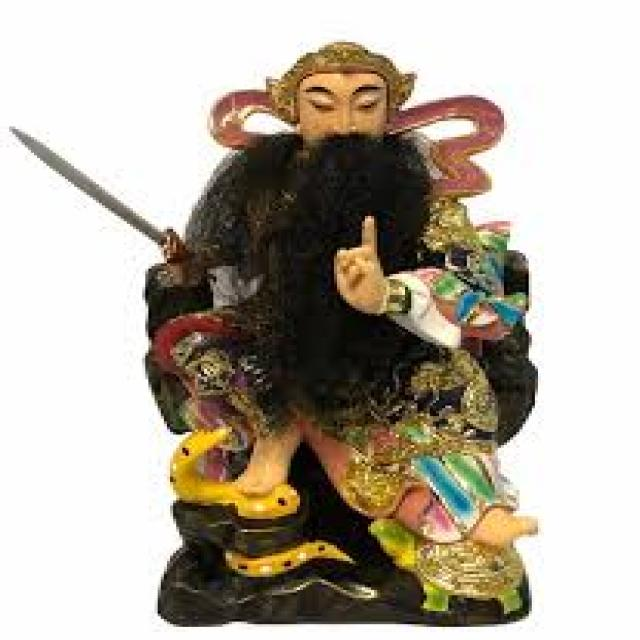Xuan wu: (126, 31, 557, 548)
